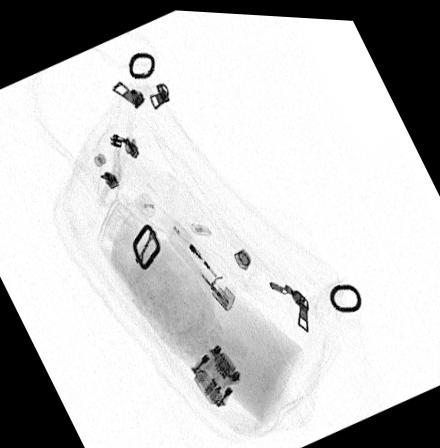Lighter: (168, 222, 236, 309)
